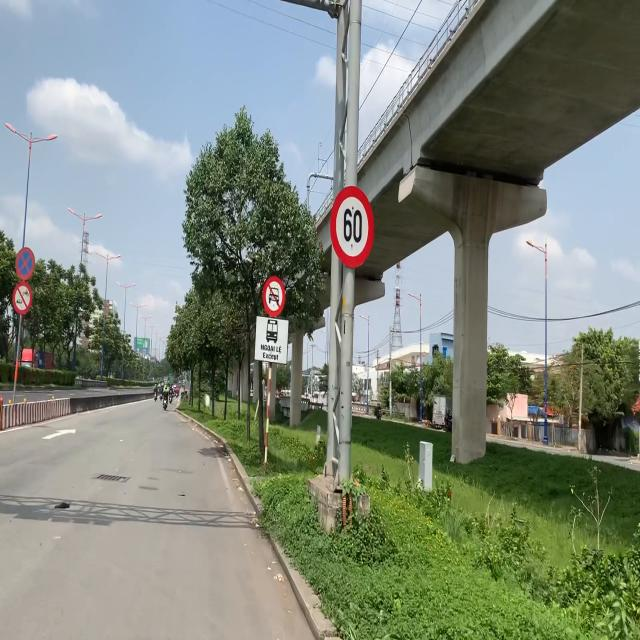Cam con lai: (262, 275, 286, 317)
Cam dung va do: (15, 247, 36, 281)
Toc do toi da: (329, 184, 375, 269)
